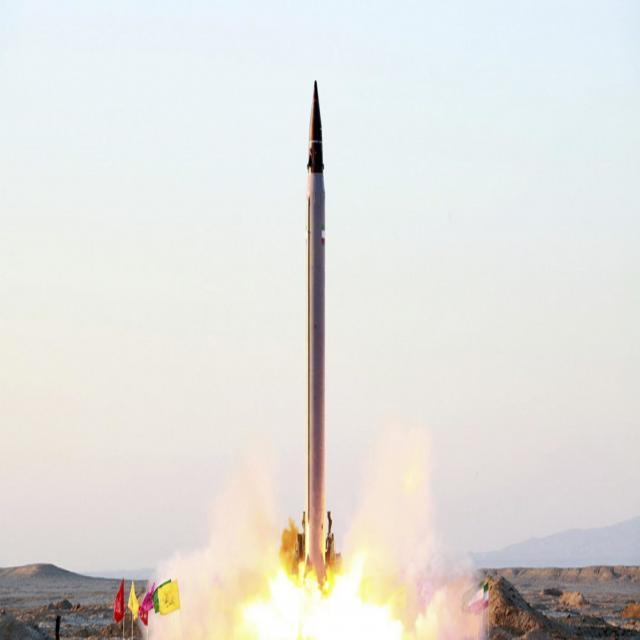Missile: (305, 75, 329, 587)
